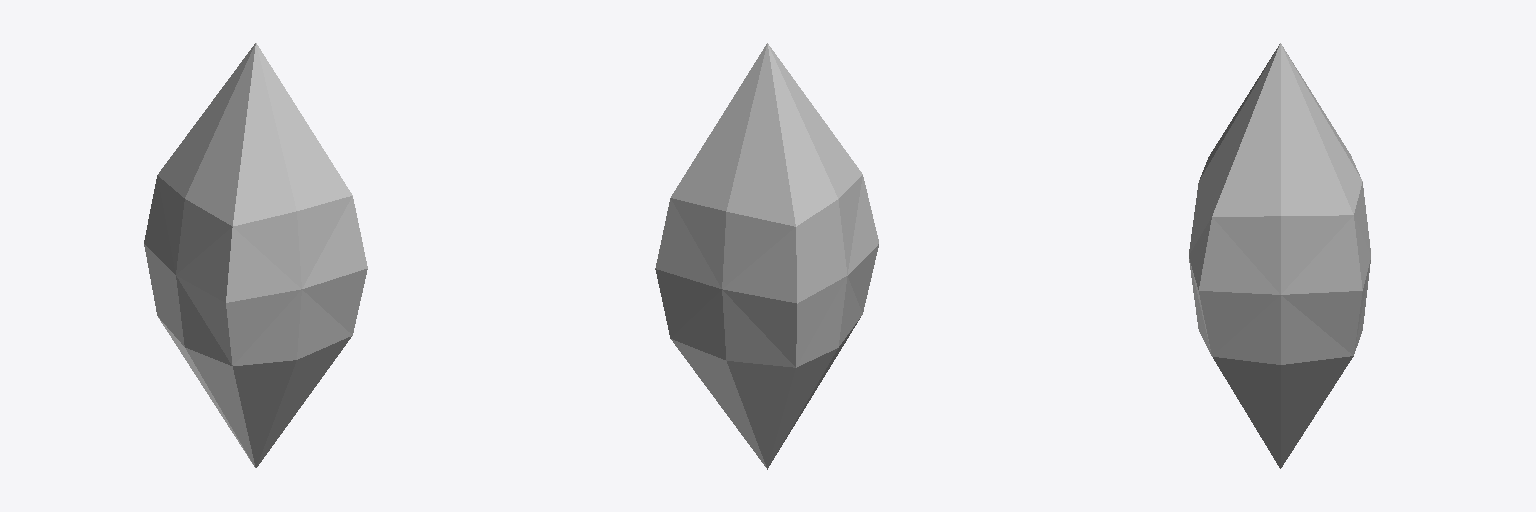
Rendered from trophy.obj.
3 renders of one model, left to right at view 1: azimuth 30°, elevation 25°; view 2: azimuth 150°, elevation 25°; view 3: azimuth 270°, elevation 25°, orthographic.
Parts seen in each view (by area): view 1: Cube; view 2: Cube; view 3: Cube.
Boxes of the visible parts, <box> form: Cube: <box>144,43,367,467</box>; Cube: <box>655,43,878,469</box>; Cube: <box>1189,43,1370,468</box>.
Bounding box in the file's own units: 0.2616 × 0.6684 × 0.2595.